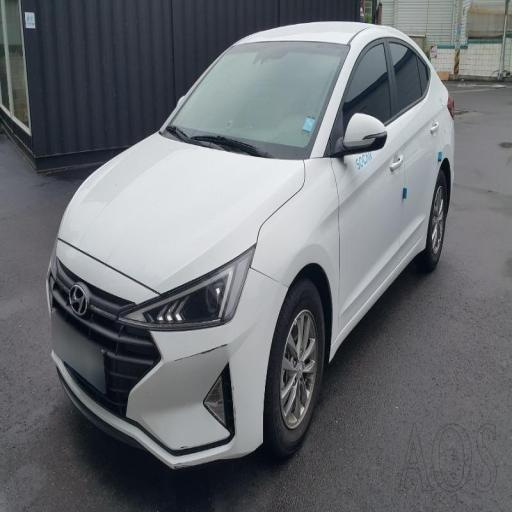normal: (53, 3, 476, 500)
